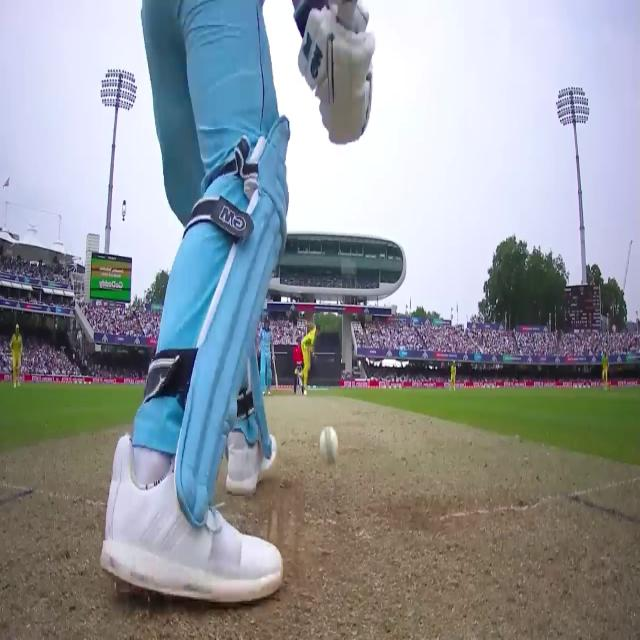ball: (319, 423, 339, 466)
